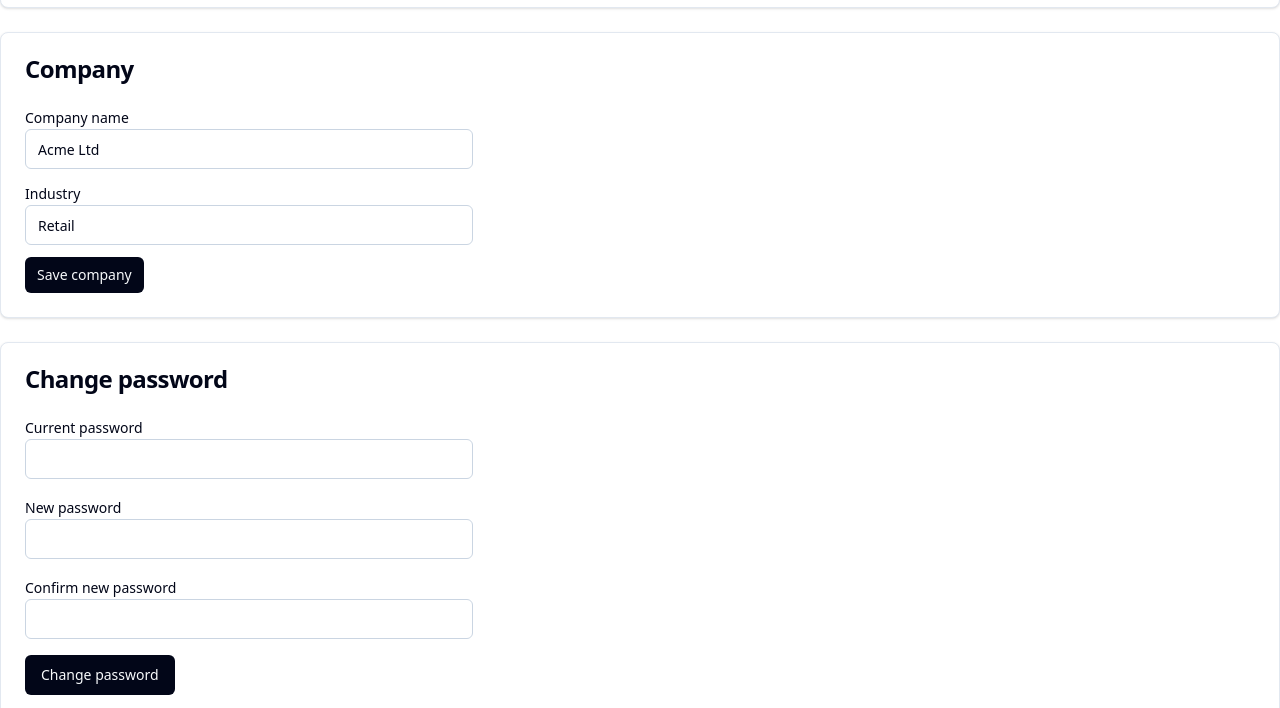
it: SettingsPage: change password › shows the server reason and keeps what was typed when the current password is wrong
(page scrolled)
Type "wrong-password-1" into the password field labelled "Current password". click: (249,459)
box: left=25, top=439, right=473, bottom=479
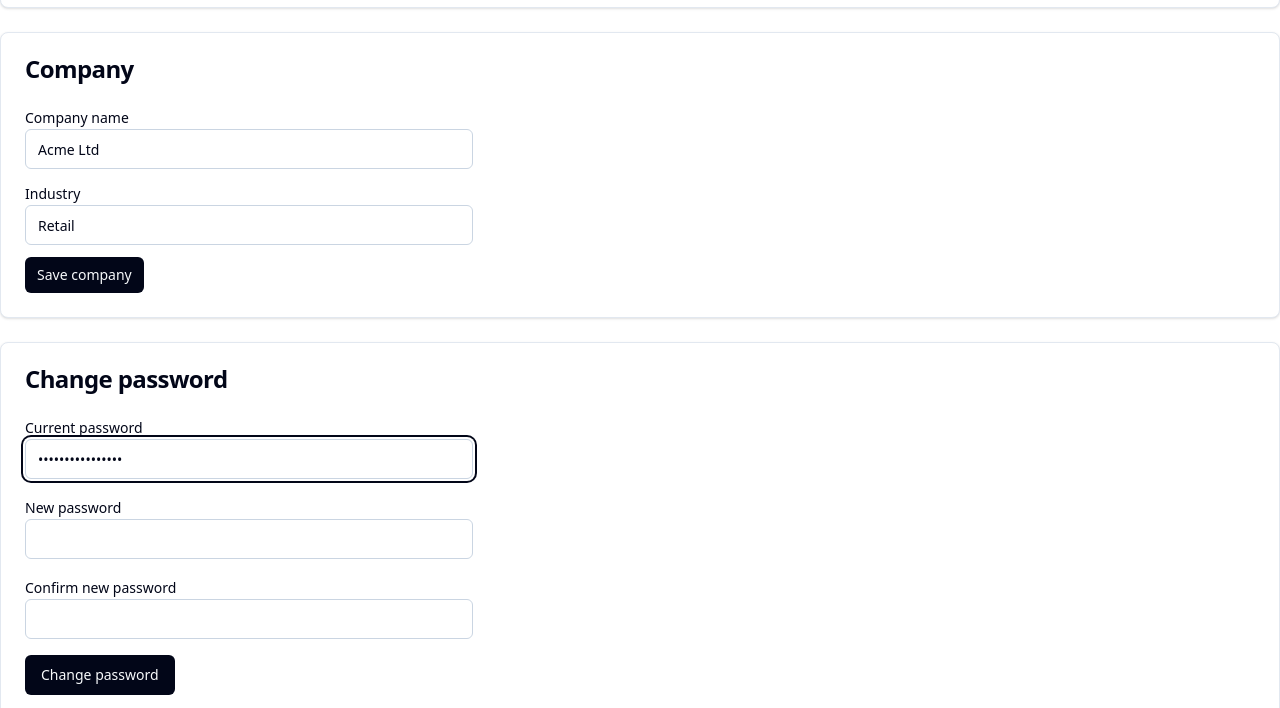
Type "brand-new-pass-1" into the password field labelled "New password". click: (249,539)
box: left=25, top=519, right=473, bottom=559
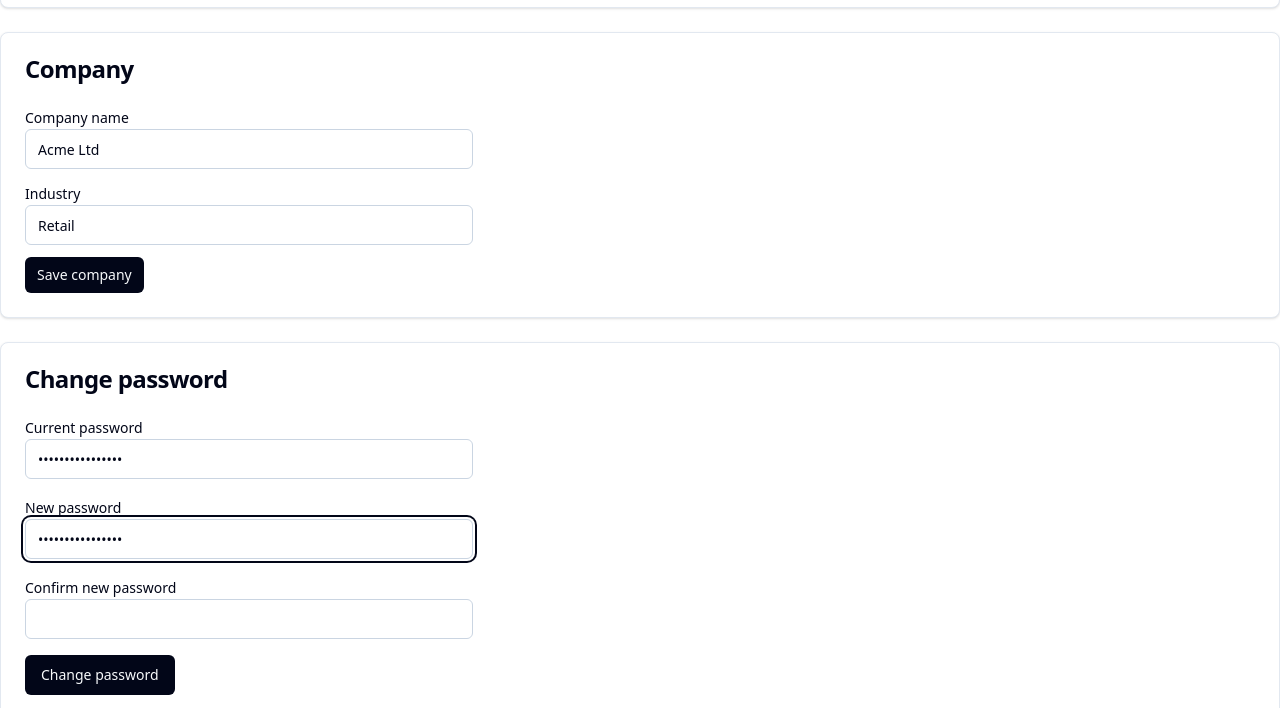
Type "brand-new-pass-1" into the password field labelled "Confirm new password". click: (249,619)
box: left=25, top=599, right=473, bottom=639
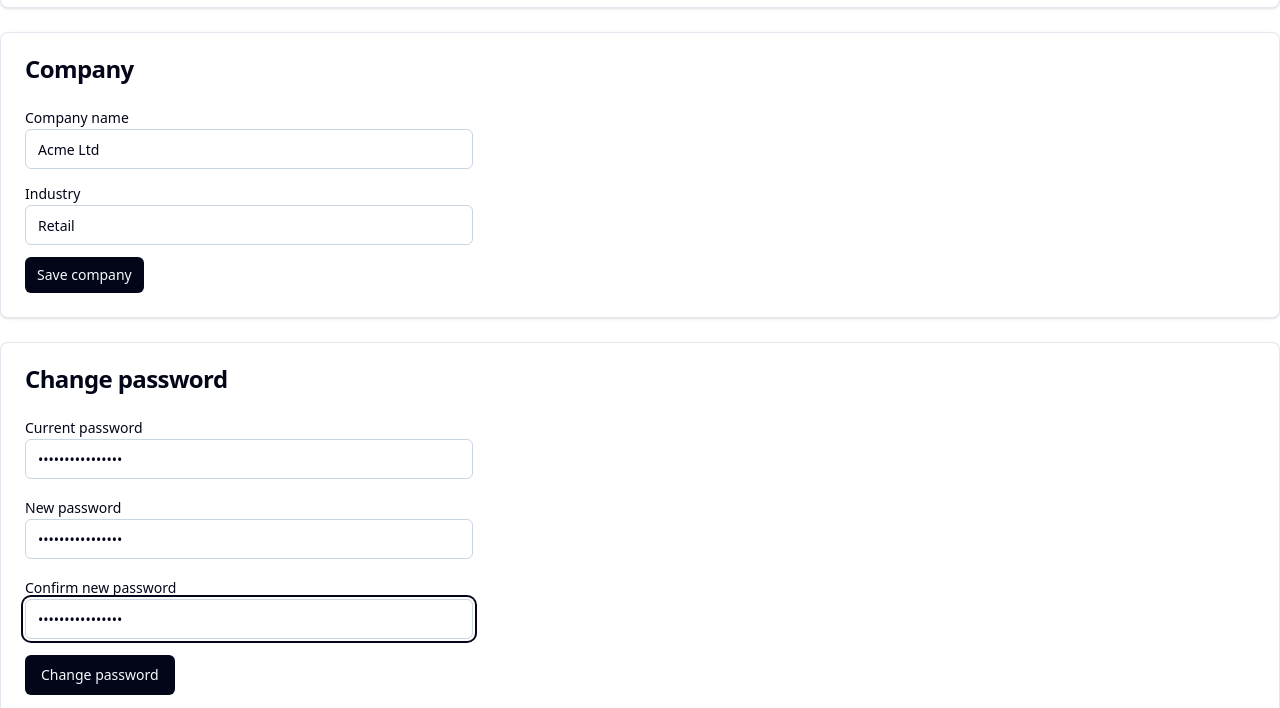
Click the button "Change password". click: (100,675)
box: left=25, top=655, right=175, bottom=695
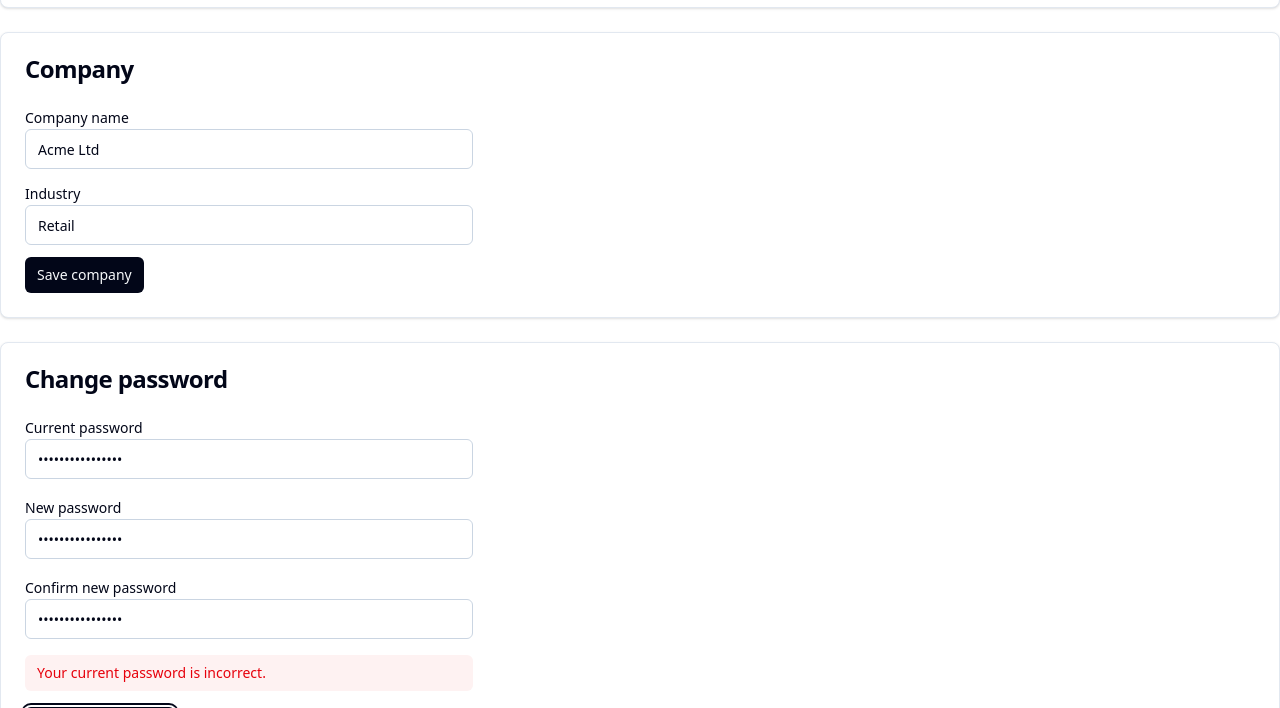
Check: the text "Your current password is incorrect." is shown, box left=25, top=655, right=473, bottom=691
